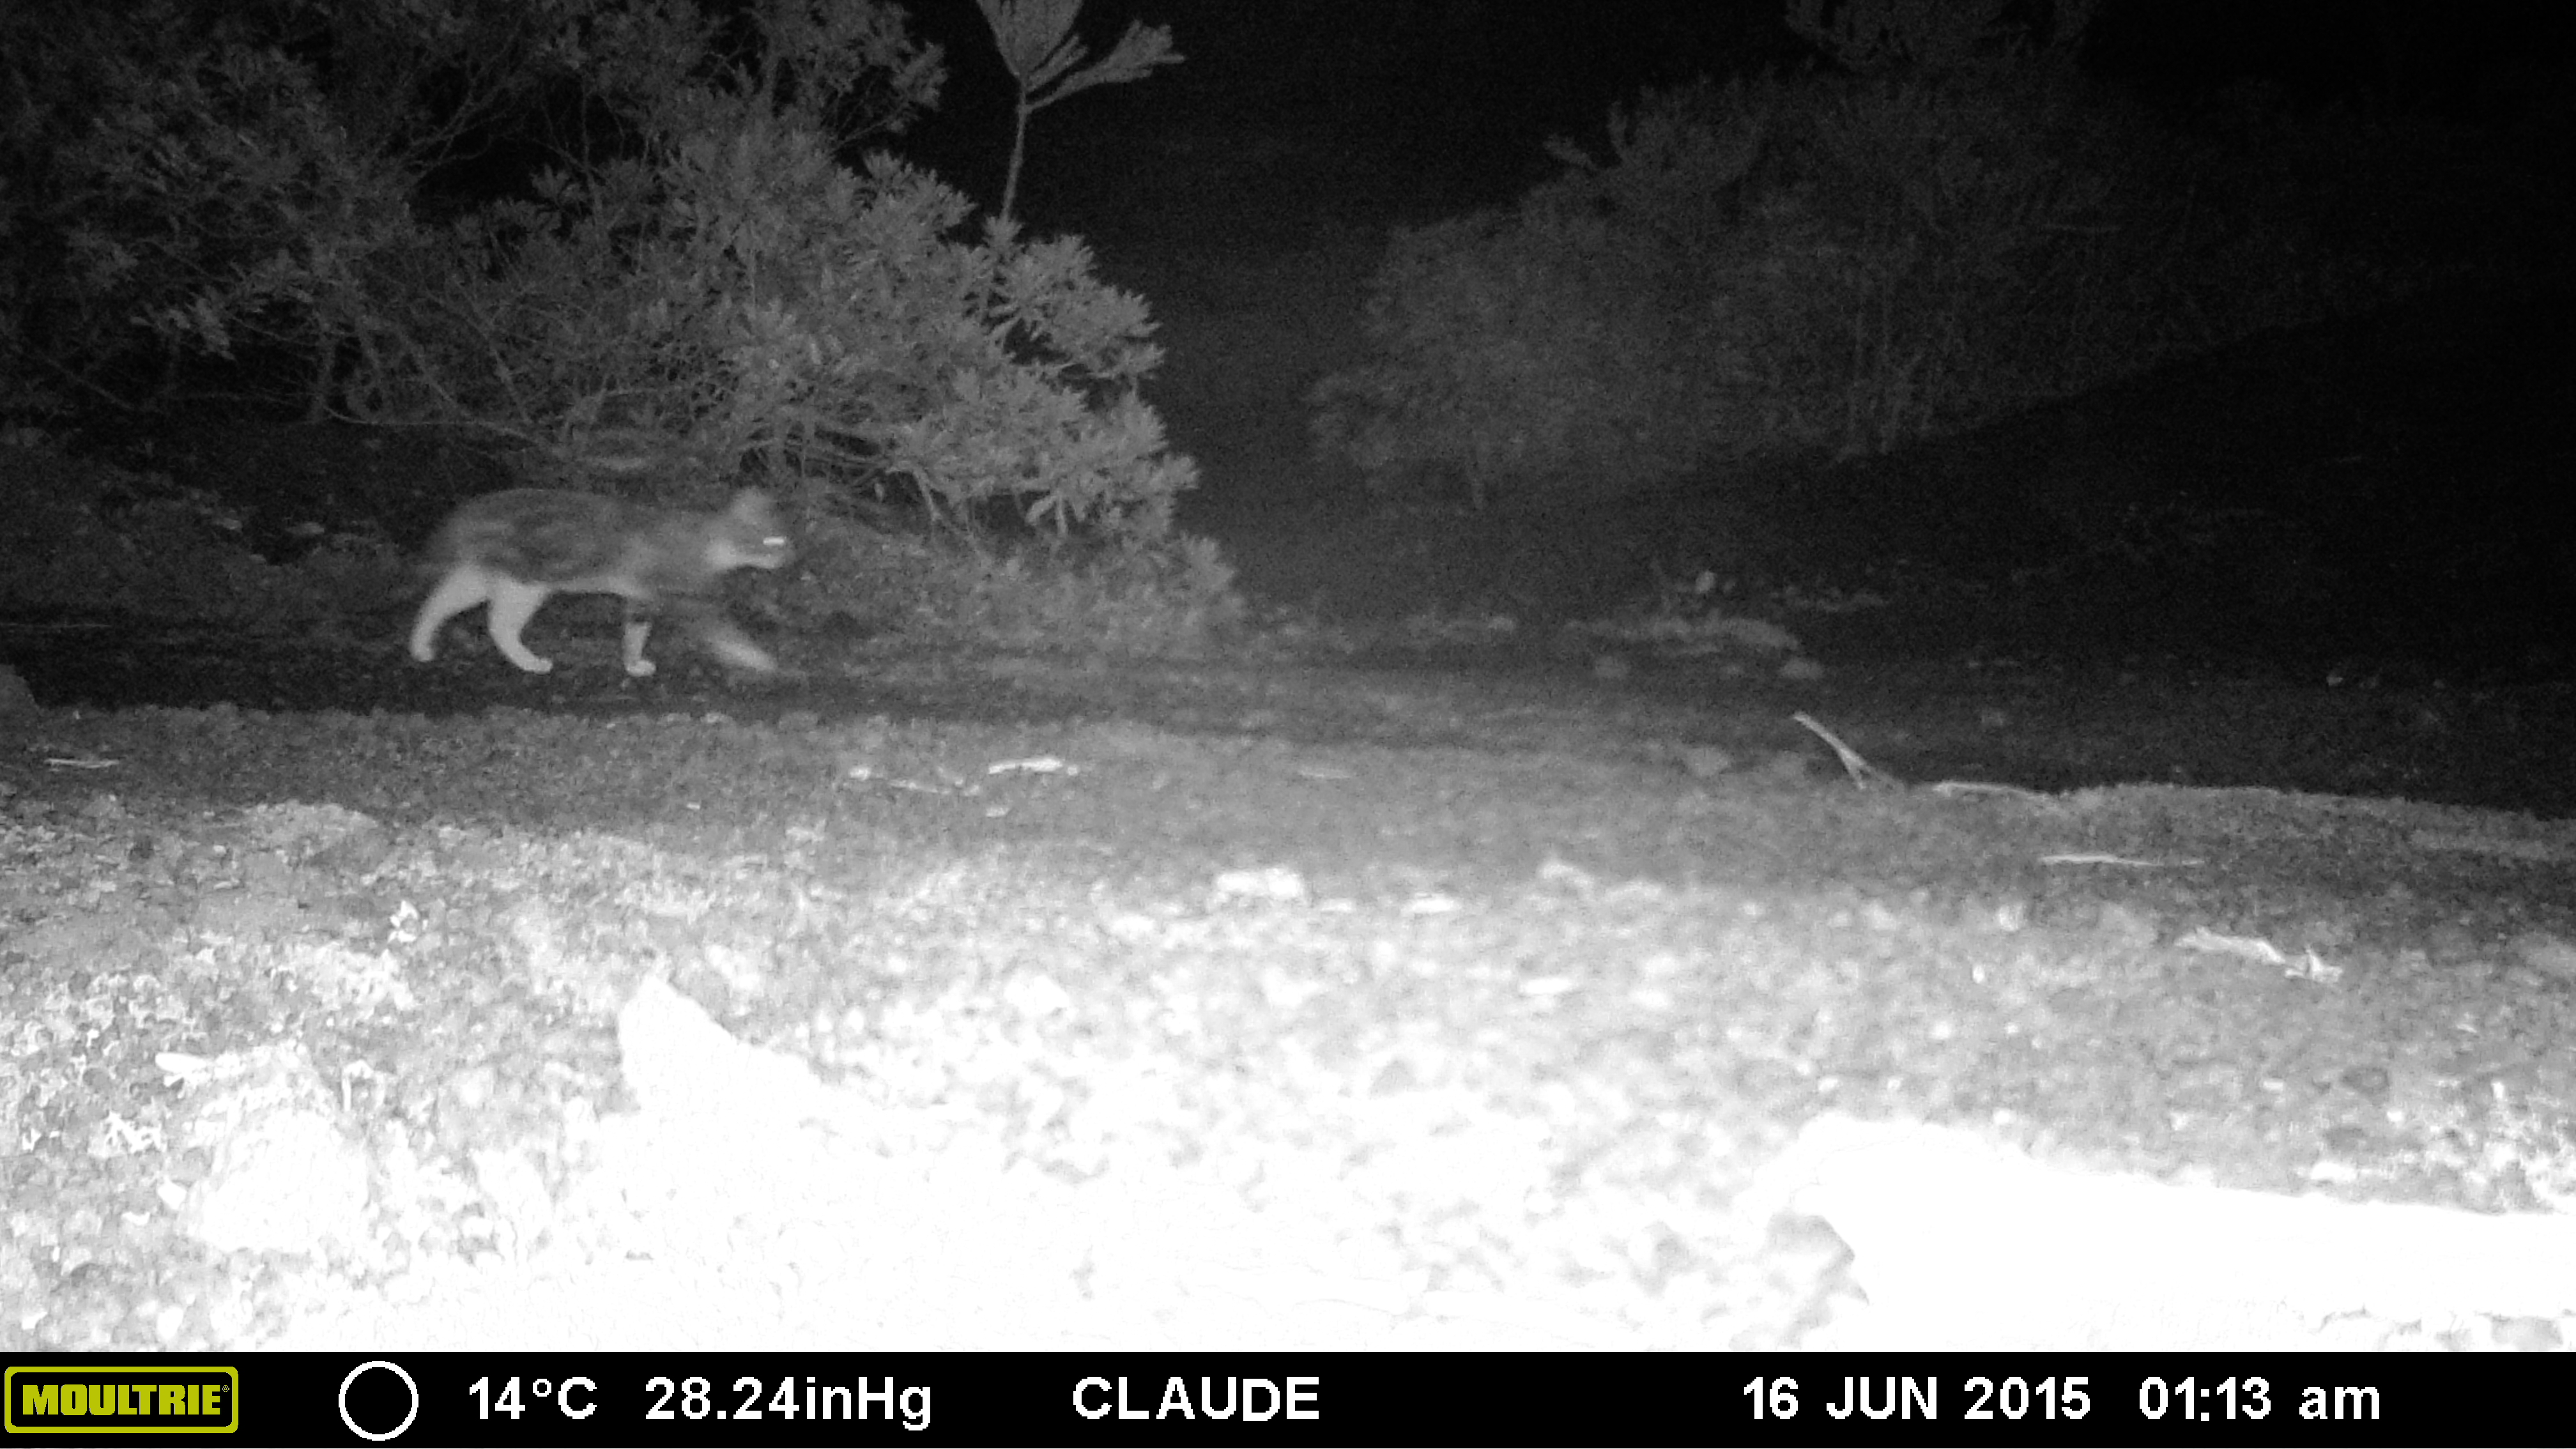cat: (409, 456, 839, 695)
